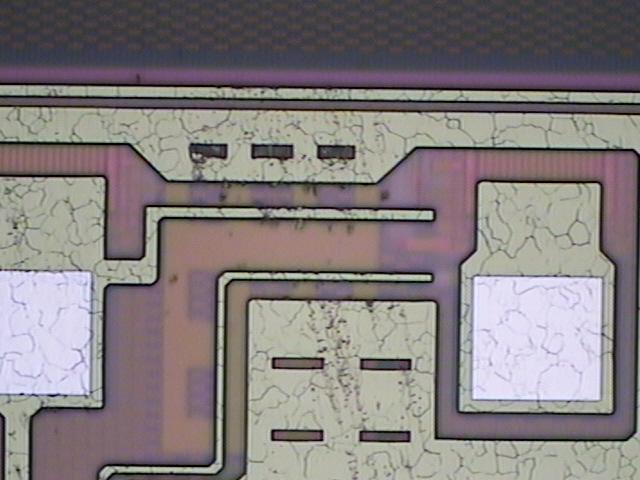SCRATCH: (181, 137, 445, 480)
